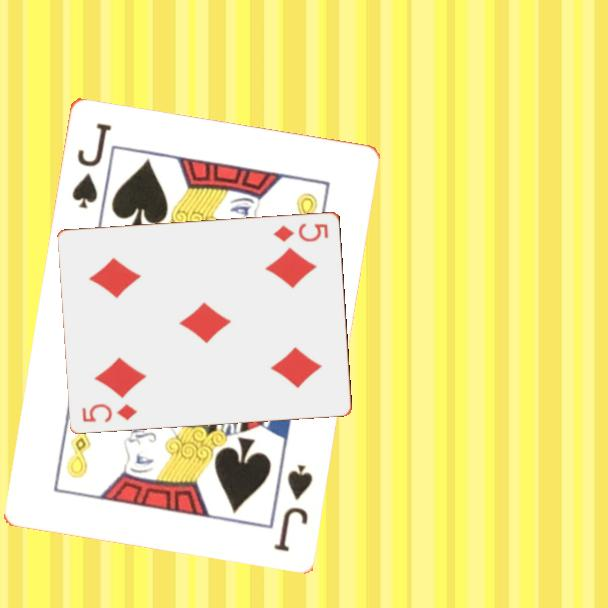d05: (270, 219, 331, 245), (79, 400, 140, 425)
s11: (68, 119, 114, 211), (270, 460, 315, 554)
